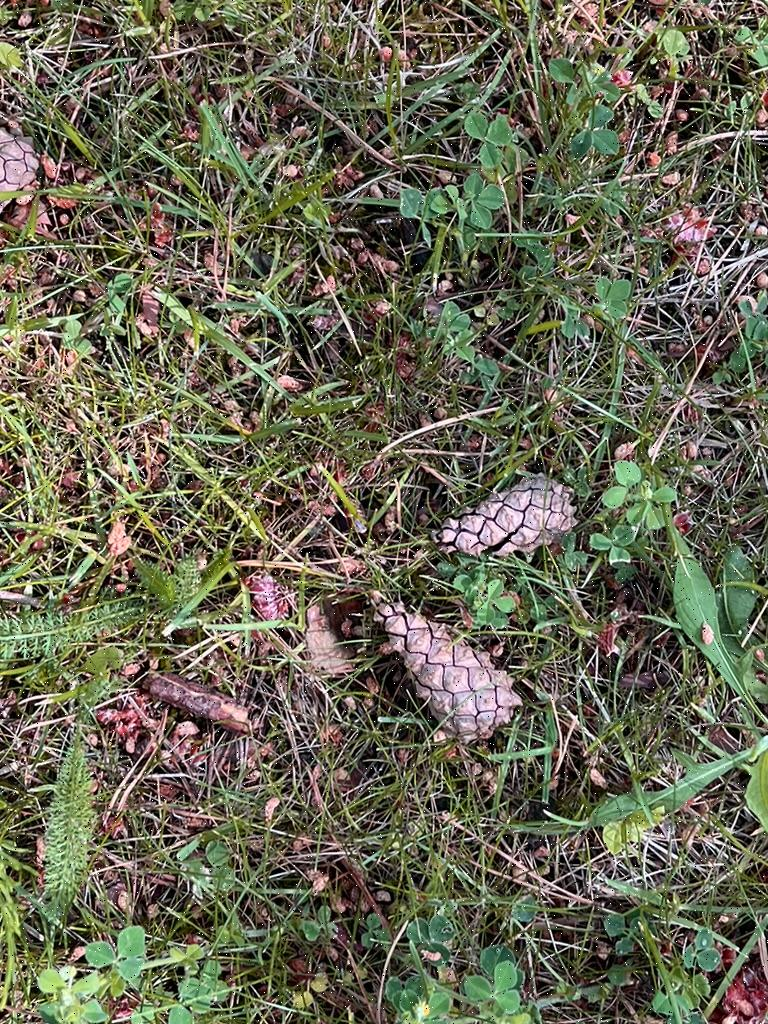pine: (361, 570, 528, 753), (428, 460, 578, 573), (0, 115, 51, 278)
